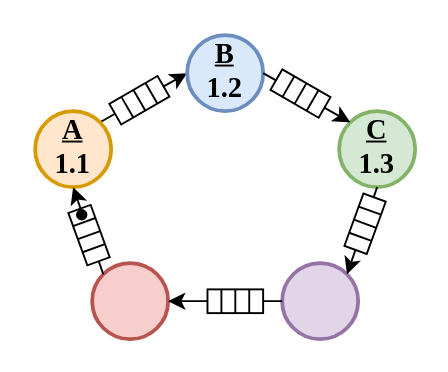
Some shapes in this 448 by 372 pixel diagram are drawn without their labels. The box of each missing label's shape, as (x1, y1, x2, y2) in pixels:
D 1.0: (279, 260, 359, 340)
E 1.4: (89, 260, 169, 340)
